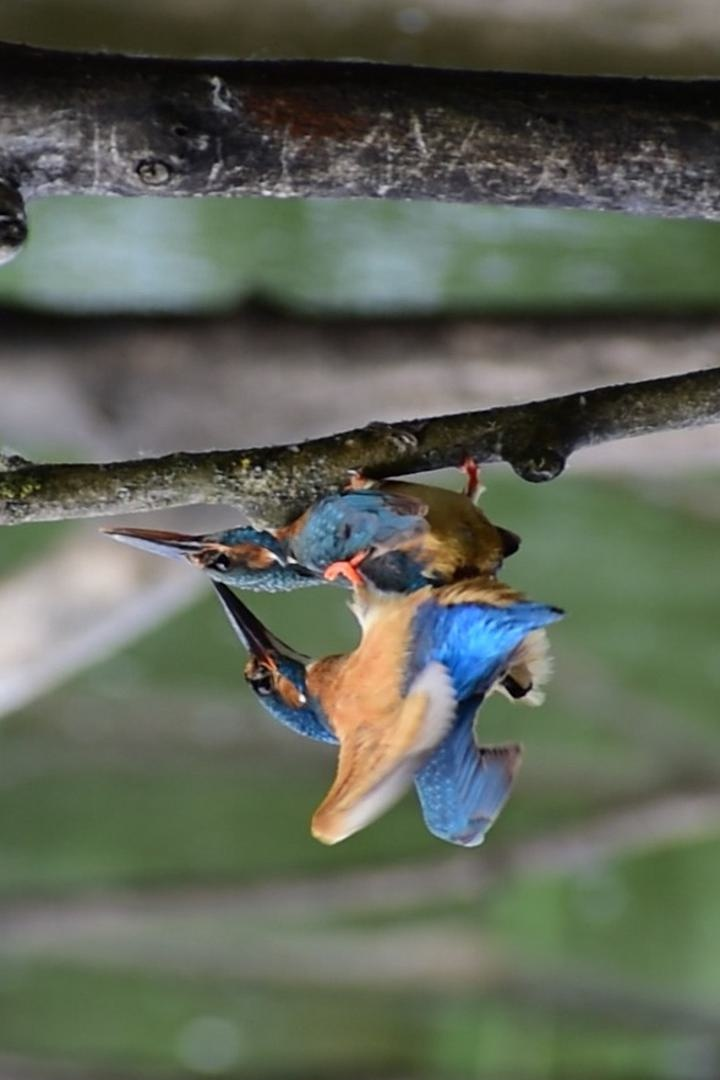kingfisher: (199, 580, 614, 842), (109, 508, 552, 585)
